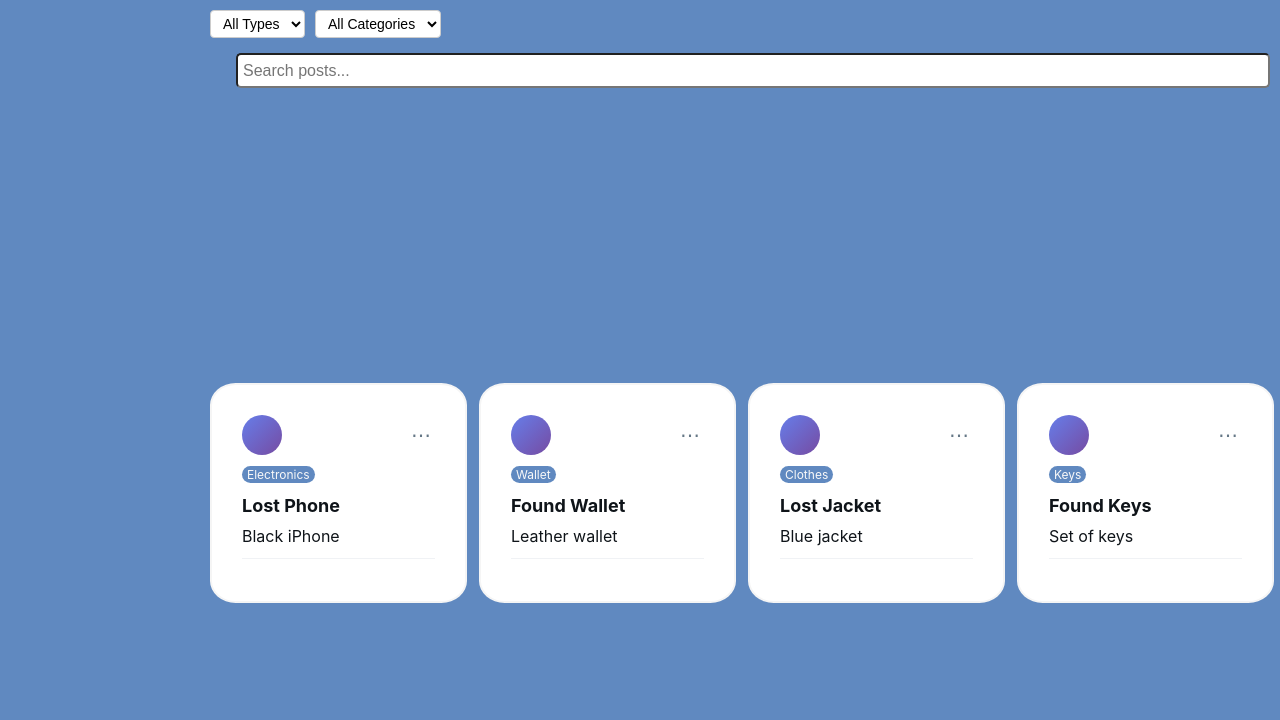
Test case: Search page › filters posts by search term
expect the heading "Lost Phone" is shown: met, box [242, 495, 340, 516]
In the search field with placeholder "Search posts...": (753, 70) [236, 53, 1270, 88], type "jacket"
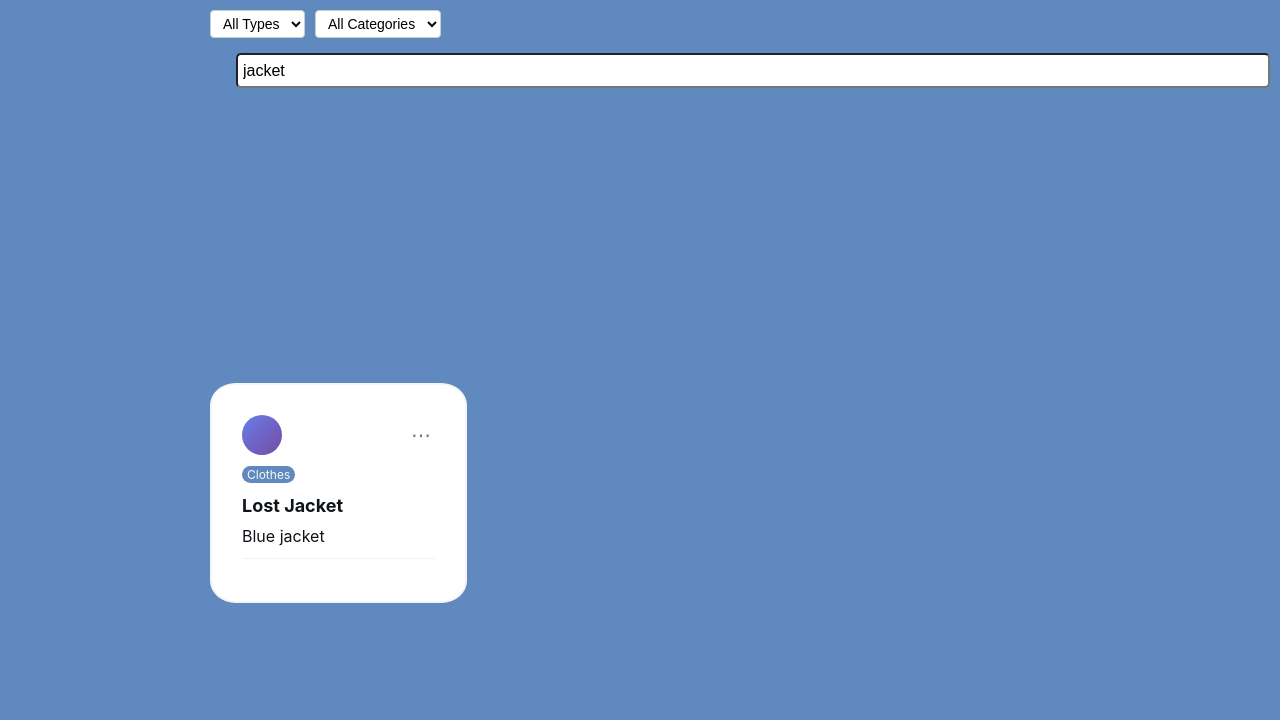
expect the heading "Lost Jacket" is shown: met, box [242, 495, 343, 516]
expect the heading "Lost Phone" is gone: met
